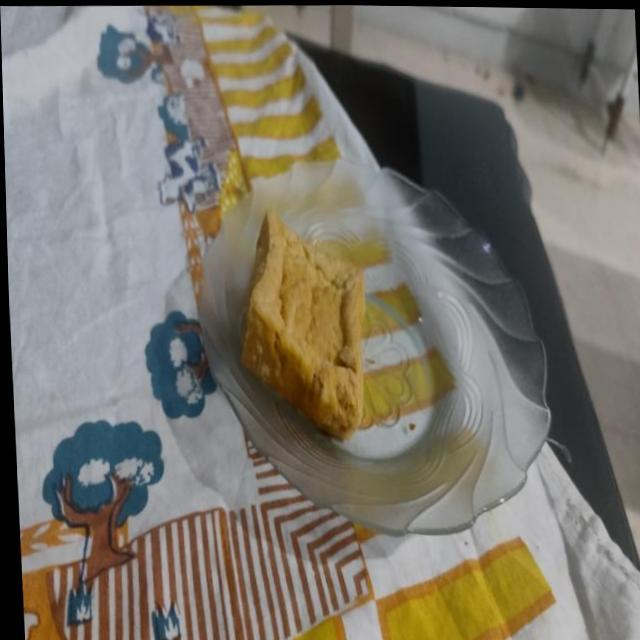tahu_goreng: (242, 212, 365, 438)
